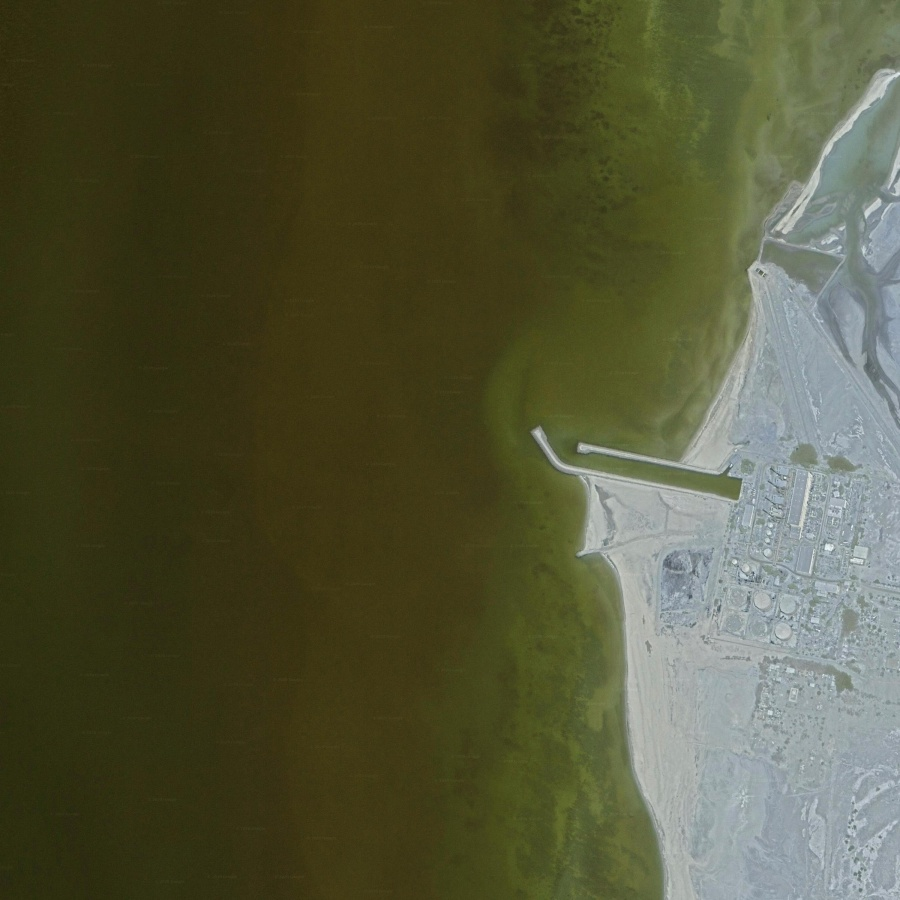PowerPlant: (649, 455, 877, 658)
